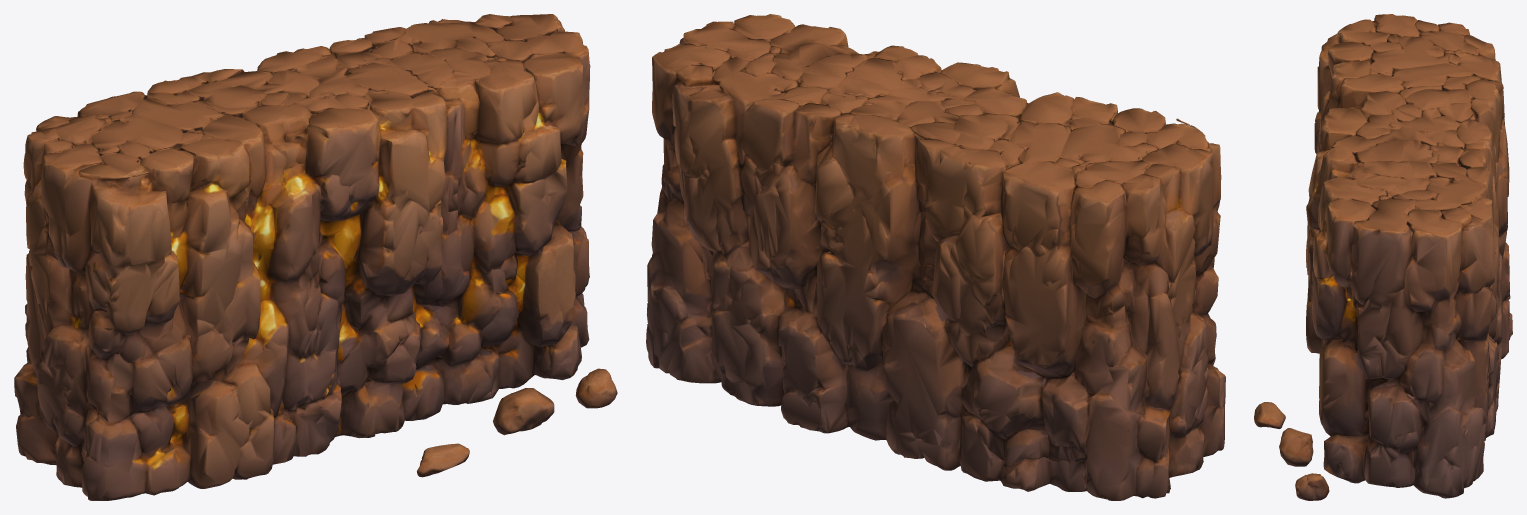
Rendered from camino_derrumbable_alicanto.glb.
3 views of the same model, side by side, from view 1: azimuth 30°, elevation 25°; view 2: azimuth 150°, elevation 25°; view 3: azimuth 270°, elevation 25° (orthographic). The views are drawn at different scales.
Visible parts, largest first — view 1: camino_derrumbable_alicanto; view 2: camino_derrumbable_alicanto; view 3: camino_derrumbable_alicanto.
Part boxes in pixels (x1,y1,x2,y2): camino_derrumbable_alicanto: (14,14,617,500); camino_derrumbable_alicanto: (646,14,1225,500); camino_derrumbable_alicanto: (1254,14,1512,500).
Size of what is drawn, in the model's own units: 12 by 7.15 by 5.84.
Materials: 1 (1 with a texture image).
